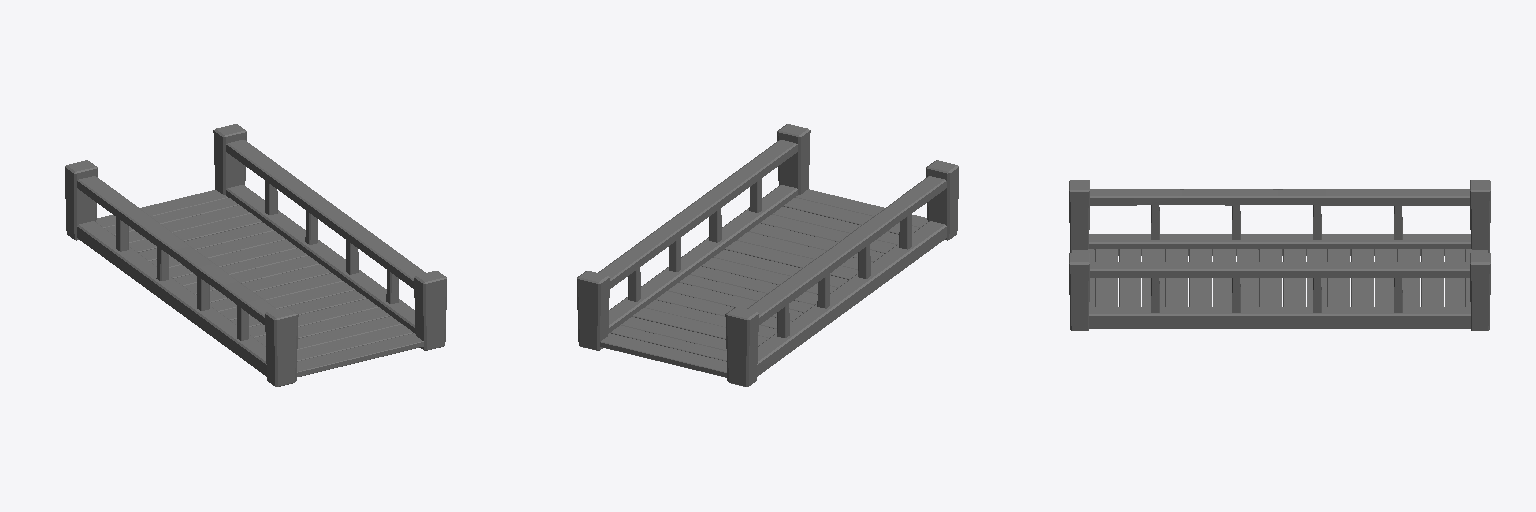
Rendered from WoodenBridge_blend.obj.
3 views of the same model, side by side, from view 1: azimuth 30°, elevation 25°; view 2: azimuth 150°, elevation 25°; view 3: azimuth 270°, elevation 25° (orthographic).
Visible parts, largest first — view 1: g_Straight_Wooden_Bridge_exported:group4pCube76_meshId13_name, g_Straight_Wooden_Bridge_exported:group4pCube82_meshId1_name, g_Straight_Wooden_Bridge_exported:group4pCube89_meshId29_name, g_Straight_Wooden_Bridge_exported:group4pCube83_meshId10_name, g_Straight_Wooden_Bridge_exported:group4pCube35_meshId16_name, g_Straight_Wooden_Bridge_exported:group4pCube87_meshId31_name, g_Straight_Wooden_Bridge_exported:group4pCube75_meshId14_name, g_Straight_Wooden_Bridge_exported:group4pCube88_meshId30_name, g_Straight_Wooden_Bridge_exported:group4pCube81_meshId5_name, g_Straight_Wooden_Bridge_exported:group4pCube73_meshId22_name, g_Straight_Wooden_Bridge_exported:group4pCube27_meshId17_name, g_Straight_Wooden_Bridge_exported:group4pCube26_meshId15_name (+14 smaller); view 2: g_Straight_Wooden_Bridge_exported:group4pCube76_meshId13_name, g_Straight_Wooden_Bridge_exported:group4pCube82_meshId1_name, g_Straight_Wooden_Bridge_exported:group4pCube89_meshId29_name, g_Straight_Wooden_Bridge_exported:group4pCube83_meshId10_name, g_Straight_Wooden_Bridge_exported:group4pCube88_meshId30_name, g_Straight_Wooden_Bridge_exported:group4pCube81_meshId5_name, g_Straight_Wooden_Bridge_exported:group4pCube29_meshId8_name, g_Straight_Wooden_Bridge_exported:group4pCube35_meshId16_name, g_Straight_Wooden_Bridge_exported:group4pCube87_meshId31_name, g_Straight_Wooden_Bridge_exported:group4pCube18_meshId24_name, g_Straight_Wooden_Bridge_exported:group4pCube25_meshId32_name, g_Straight_Wooden_Bridge_exported:group4pCube28_meshId3_name (+14 smaller); view 3: g_Straight_Wooden_Bridge_exported:group4pCube83_meshId10_name, g_Straight_Wooden_Bridge_exported:group4pCube89_meshId29_name, g_Straight_Wooden_Bridge_exported:group4pCube82_meshId1_name, g_Straight_Wooden_Bridge_exported:group4pCube76_meshId13_name, g_Straight_Wooden_Bridge_exported:group4pCube87_meshId31_name, g_Straight_Wooden_Bridge_exported:group4pCube81_meshId5_name, g_Straight_Wooden_Bridge_exported:group4pCube88_meshId30_name, g_Straight_Wooden_Bridge_exported:group4pCube35_meshId16_name, g_Straight_Wooden_Bridge_exported:group4pCube24_meshId33_name, g_Straight_Wooden_Bridge_exported:group4pCube21_meshId26_name, g_Straight_Wooden_Bridge_exported:group4pCube20_meshId25_name, g_Straight_Wooden_Bridge_exported:group4pCube73_meshId22_name (+12 smaller).
Part boxes in pixels (x1,y1,x2,y2): g_Straight_Wooden_Bridge_exported:group4pCube76_meshId13_name: (77,221,266,376); g_Straight_Wooden_Bridge_exported:group4pCube82_meshId1_name: (226,140,425,288); g_Straight_Wooden_Bridge_exported:group4pCube89_meshId29_name: (77,176,275,324); g_Straight_Wooden_Bridge_exported:group4pCube83_meshId10_name: (226,185,415,333); g_Straight_Wooden_Bridge_exported:group4pCube35_meshId16_name: (265,307,298,386); g_Straight_Wooden_Bridge_exported:group4pCube87_meshId31_name: (414,271,446,350); g_Straight_Wooden_Bridge_exported:group4pCube75_meshId14_name: (297,333,423,376); g_Straight_Wooden_Bridge_exported:group4pCube88_meshId30_name: (65,160,97,240); g_Straight_Wooden_Bridge_exported:group4pCube81_meshId5_name: (213,124,246,194); g_Straight_Wooden_Bridge_exported:group4pCube73_meshId22_name: (297,324,412,361); g_Straight_Wooden_Bridge_exported:group4pCube27_meshId17_name: (129,213,262,252); g_Straight_Wooden_Bridge_exported:group4pCube26_meshId15_name: (169,239,296,278); g_Straight_Wooden_Bridge_exported:group4pCube76_meshId13_name: (757,221,946,376); g_Straight_Wooden_Bridge_exported:group4pCube82_meshId1_name: (598,140,797,288); g_Straight_Wooden_Bridge_exported:group4pCube89_meshId29_name: (747,176,946,324); g_Straight_Wooden_Bridge_exported:group4pCube83_meshId10_name: (608,185,797,333); g_Straight_Wooden_Bridge_exported:group4pCube88_meshId30_name: (725,307,758,386); g_Straight_Wooden_Bridge_exported:group4pCube81_meshId5_name: (577,271,609,350); g_Straight_Wooden_Bridge_exported:group4pCube29_meshId8_name: (600,333,726,377); g_Straight_Wooden_Bridge_exported:group4pCube35_meshId16_name: (926,160,958,240); g_Straight_Wooden_Bridge_exported:group4pCube87_meshId31_name: (777,124,810,194); g_Straight_Wooden_Bridge_exported:group4pCube18_meshId24_name: (725,241,857,279); g_Straight_Wooden_Bridge_exported:group4pCube25_meshId32_name: (611,325,726,361); g_Straight_Wooden_Bridge_exported:group4pCube28_meshId3_name: (621,317,726,350); g_Straight_Wooden_Bridge_exported:group4pCube83_meshId10_name: (1089,307,1470,328); g_Straight_Wooden_Bridge_exported:group4pCube89_meshId29_name: (1090,189,1469,205); g_Straight_Wooden_Bridge_exported:group4pCube82_meshId1_name: (1090,262,1469,277); g_Straight_Wooden_Bridge_exported:group4pCube76_meshId13_name: (1089,234,1470,255); g_Straight_Wooden_Bridge_exported:group4pCube87_meshId31_name: (1069,253,1089,330); g_Straight_Wooden_Bridge_exported:group4pCube81_meshId5_name: (1470,253,1490,330); g_Straight_Wooden_Bridge_exported:group4pCube88_meshId30_name: (1470,180,1490,252); g_Straight_Wooden_Bridge_exported:group4pCube35_meshId16_name: (1069,180,1089,252); g_Straight_Wooden_Bridge_exported:group4pCube24_meshId33_name: (1351,249,1373,306); g_Straight_Wooden_Bridge_exported:group4pCube21_meshId26_name: (1283,249,1305,306); g_Straight_Wooden_Bridge_exported:group4pCube20_meshId25_name: (1259,249,1281,306); g_Straight_Wooden_Bridge_exported:group4pCube73_meshId22_name: (1095,249,1117,306).
Bounding box in the file's own units: 1.07 × 0.4127 × 2.27.